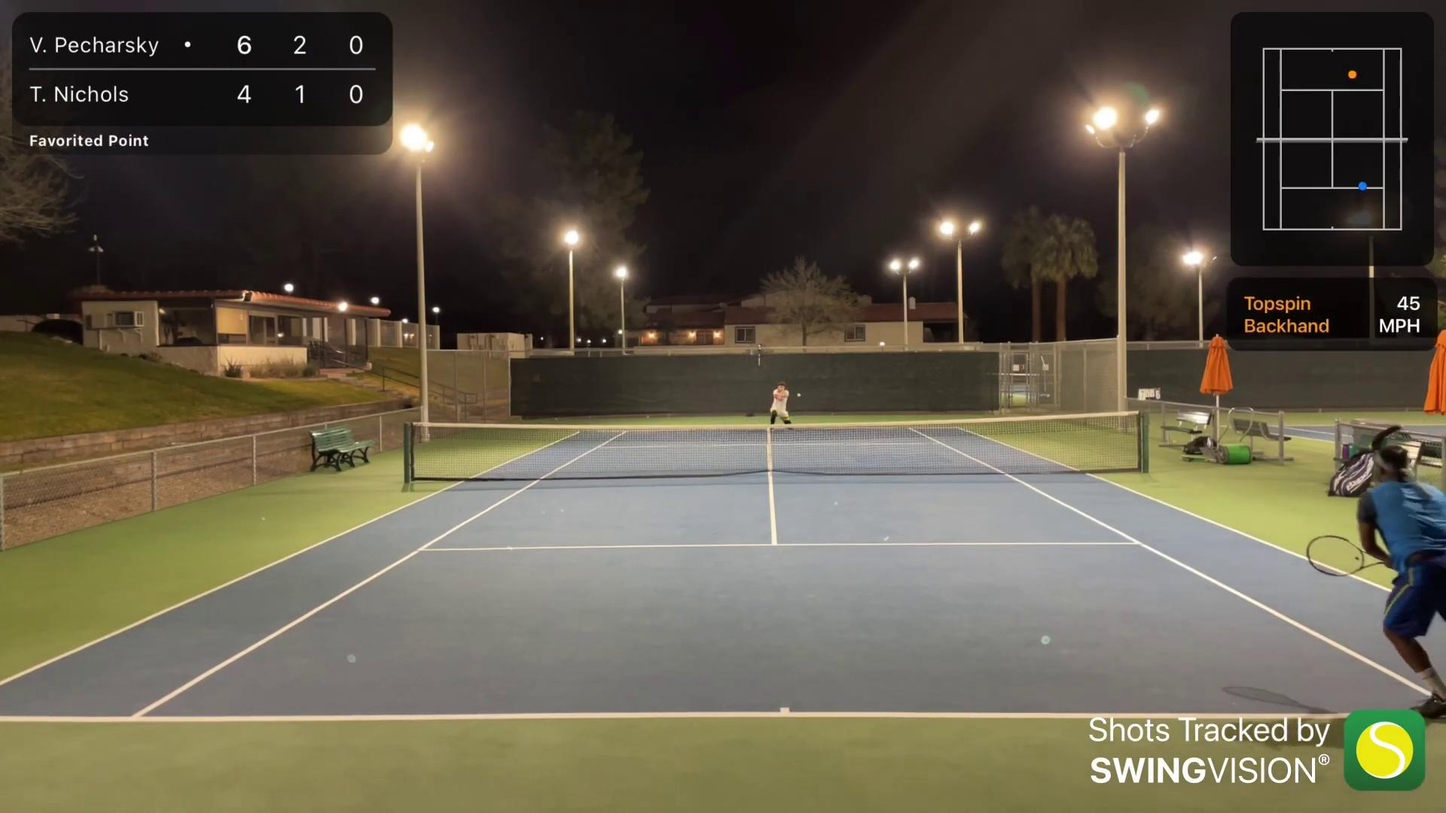ball: (796, 393, 801, 398)
